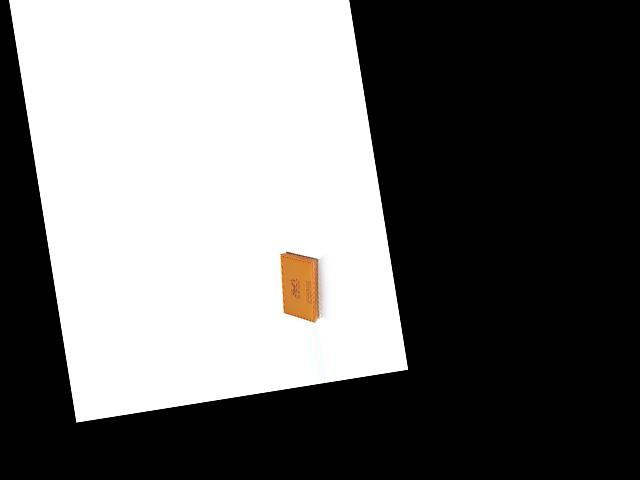chocolate: (271, 244, 333, 326)
